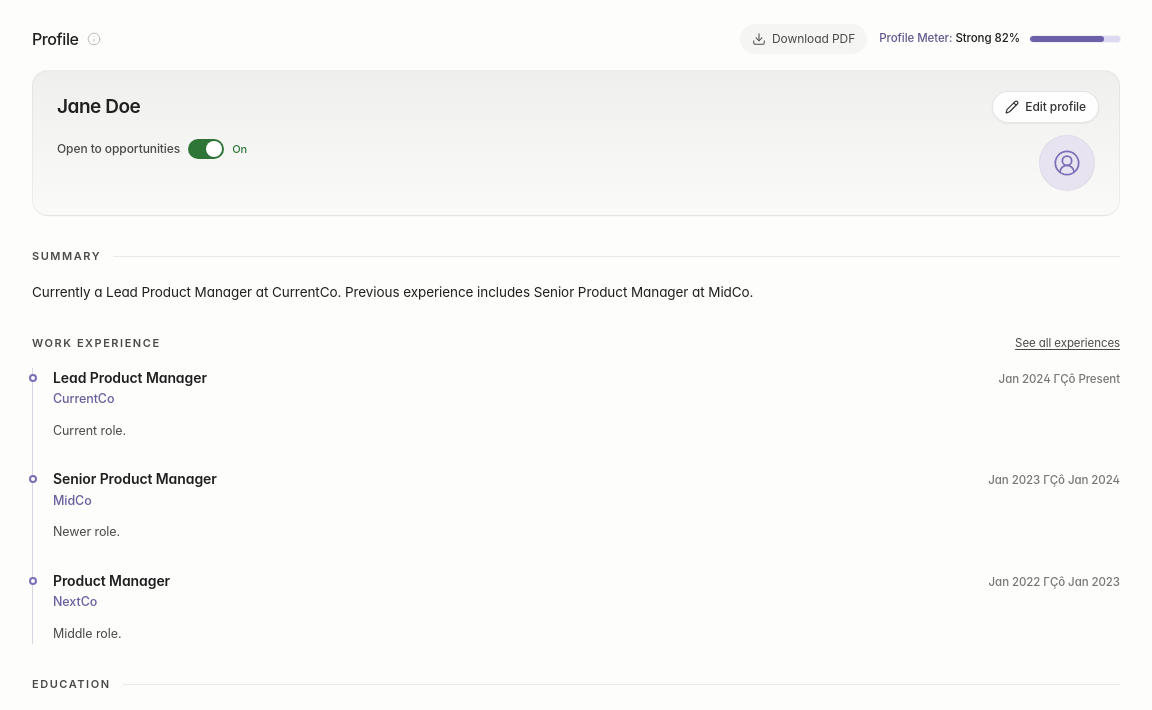
Scenario: LivingProfile experience toggle › changes the label to Show less when expanded
Click the button with test id "experience-toggle": (1068, 344) [1015, 335, 1120, 353]
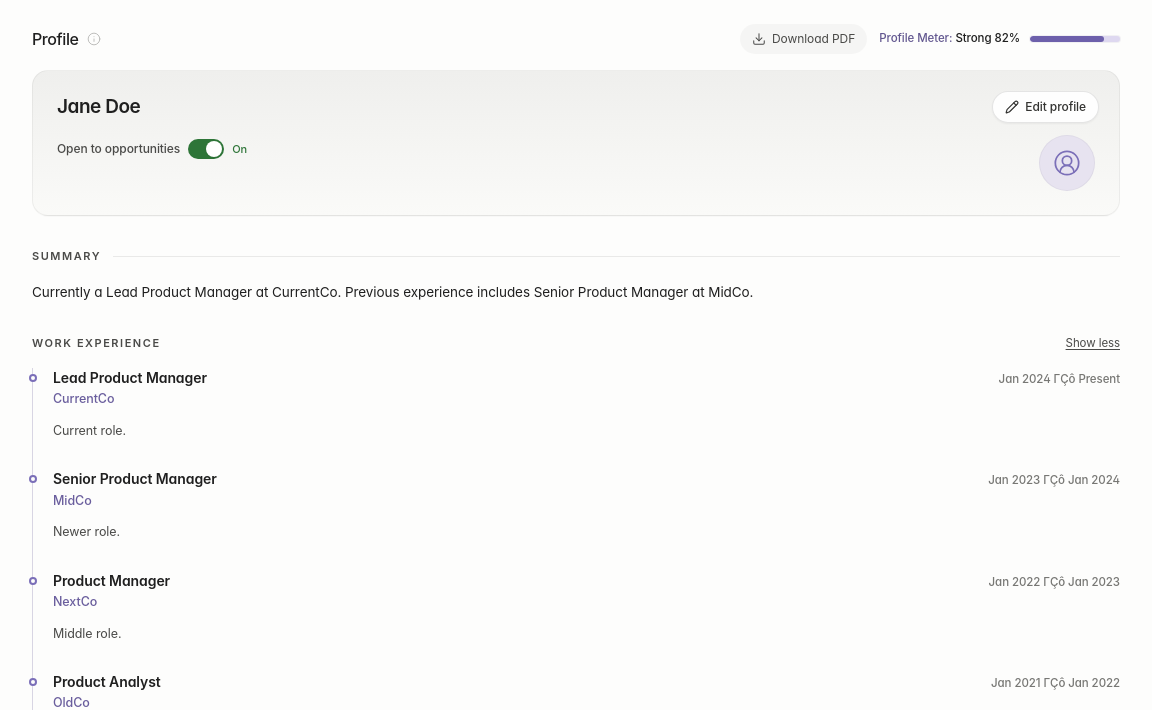
Now the button with test id "experience-toggle" reads "Show less", box [1066, 335, 1120, 353]
